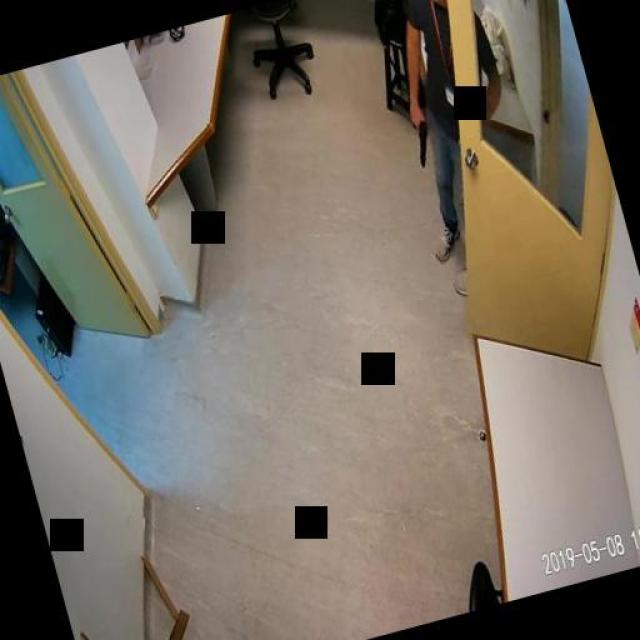gun: (405, 112, 433, 166)
